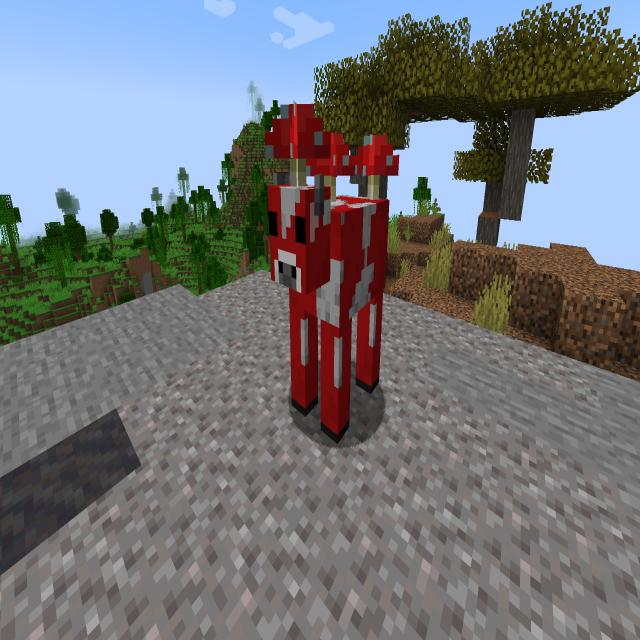Mooshroom: (258, 80, 410, 453)
